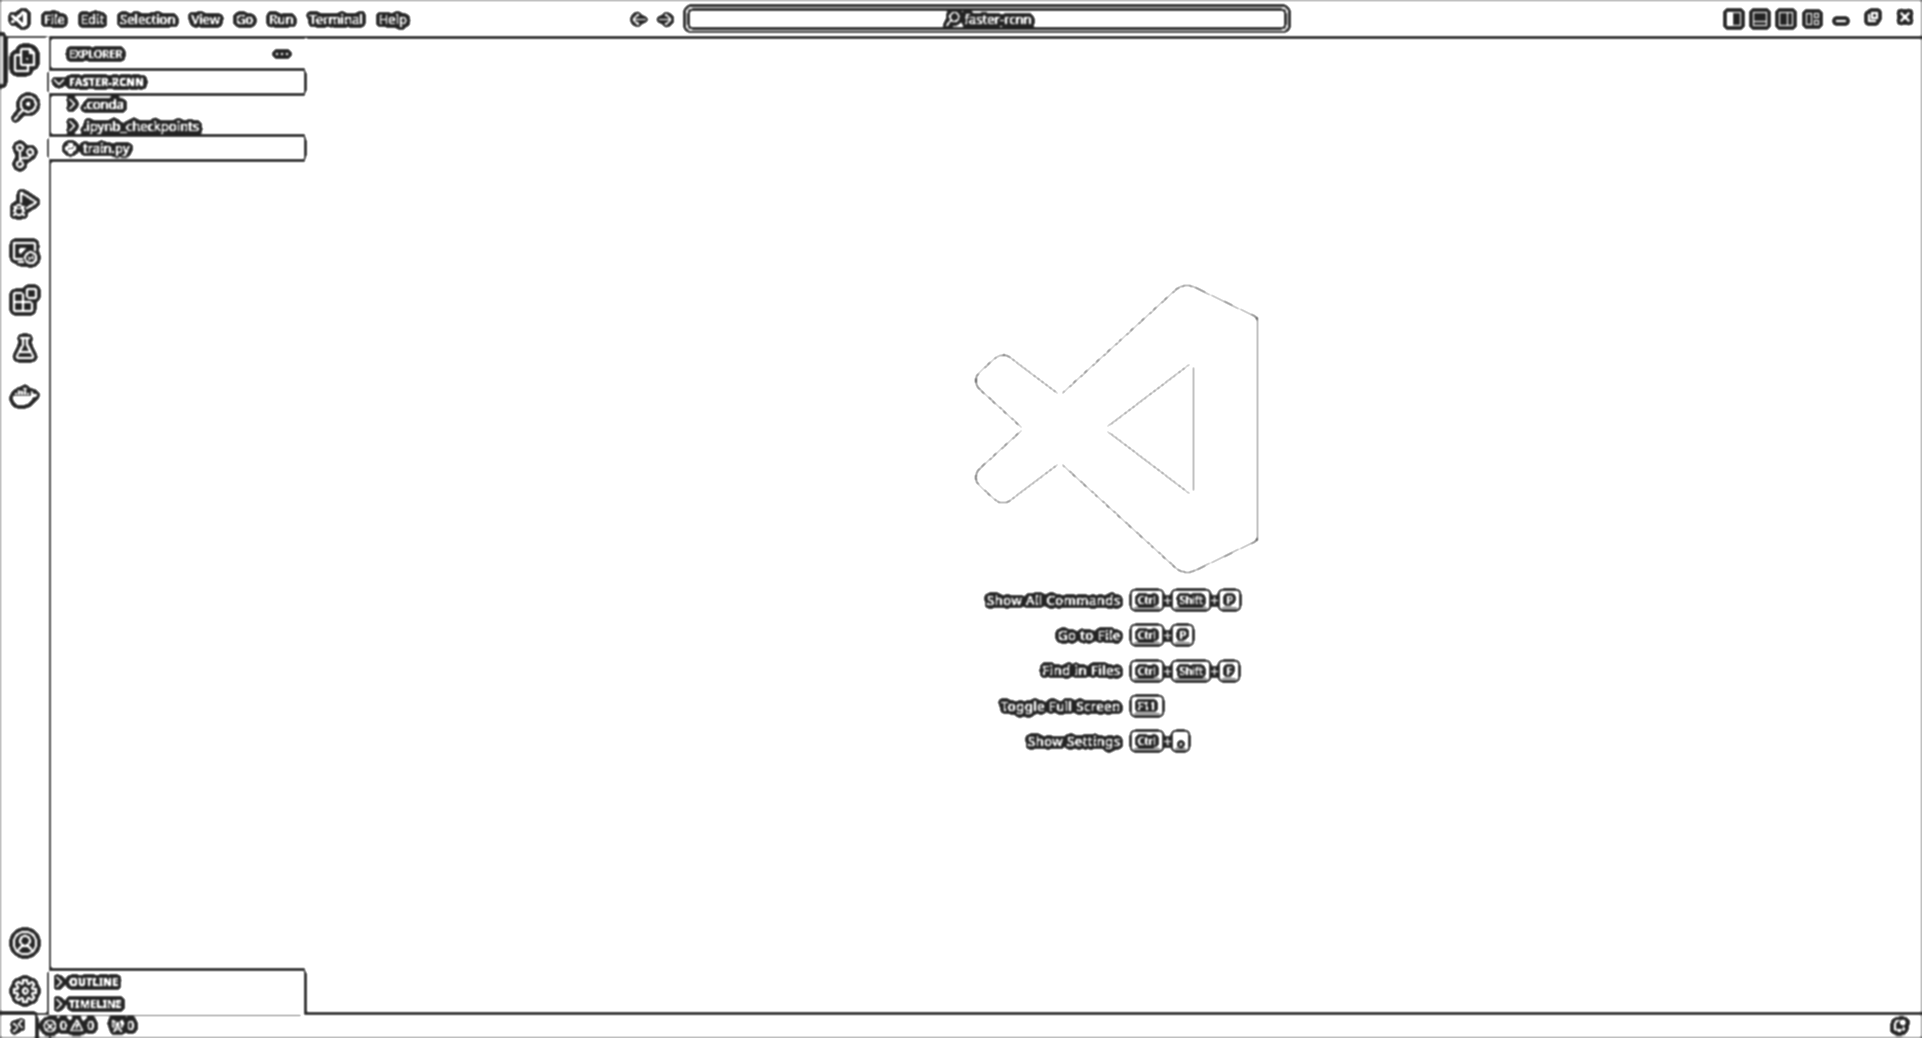Accounts: (4, 920, 41, 957)
Activity Bar: (1, 37, 49, 1012)
Close: (1896, 3, 1912, 26)
Editor: (302, 35, 1919, 1016)
Explorer: (8, 40, 38, 73)
Extensions: (8, 280, 40, 316)
Manage: (6, 970, 41, 1006)
Maximize: (1864, 5, 1881, 28)
Minimize: (1830, 10, 1850, 27)
Primary Side Bar: (47, 35, 304, 1012)
Run and Debug: (4, 184, 42, 221)
Search: (6, 87, 40, 123)
Search Bar: (679, 4, 1298, 32)
Source Control: (5, 133, 41, 170)
Status Bar: (1, 1018, 1918, 1034)
Testing: (8, 330, 38, 362)
Top Bar: (1, 1, 1918, 35)
